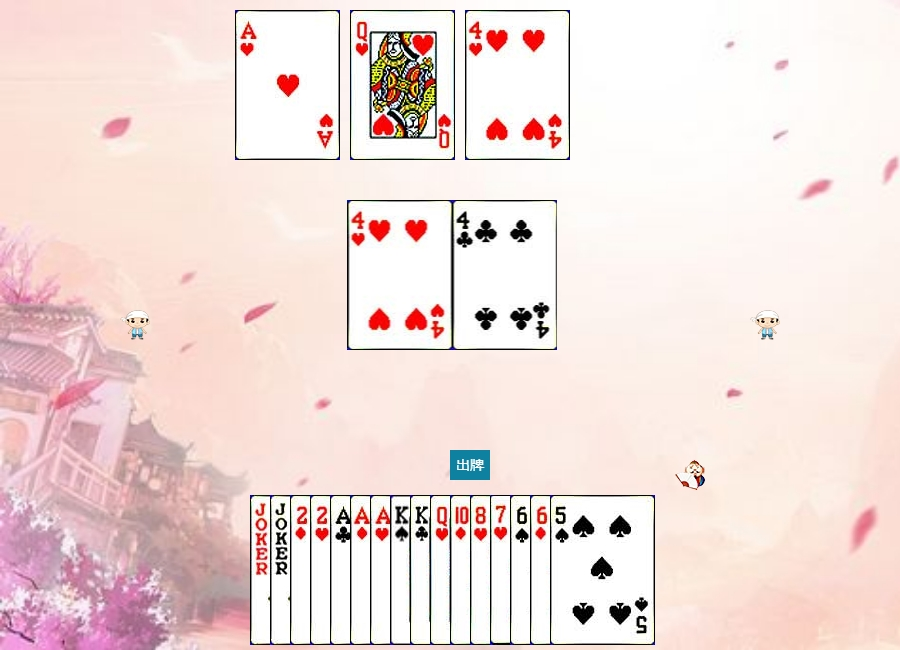10~1: (450, 495, 555, 645)
12~3: (350, 10, 455, 160), (430, 495, 535, 645)
13~2: (410, 495, 515, 645)
13~4: (390, 495, 495, 645)
14~1: (350, 495, 455, 645)
14~2: (330, 495, 435, 645)
14~3: (235, 10, 340, 160), (370, 495, 475, 645)
15~1: (290, 495, 395, 645)
15~3: (310, 495, 415, 645)
17~3: (270, 495, 375, 645)
18~4: (250, 495, 355, 645)
4~2: (453, 200, 558, 350)
4~3: (465, 10, 570, 160), (348, 200, 453, 350)
5~4: (550, 495, 655, 645)
6~1: (530, 495, 635, 645)
6~4: (510, 495, 615, 645)
7~3: (490, 495, 595, 645)
8~3: (470, 495, 575, 645)
